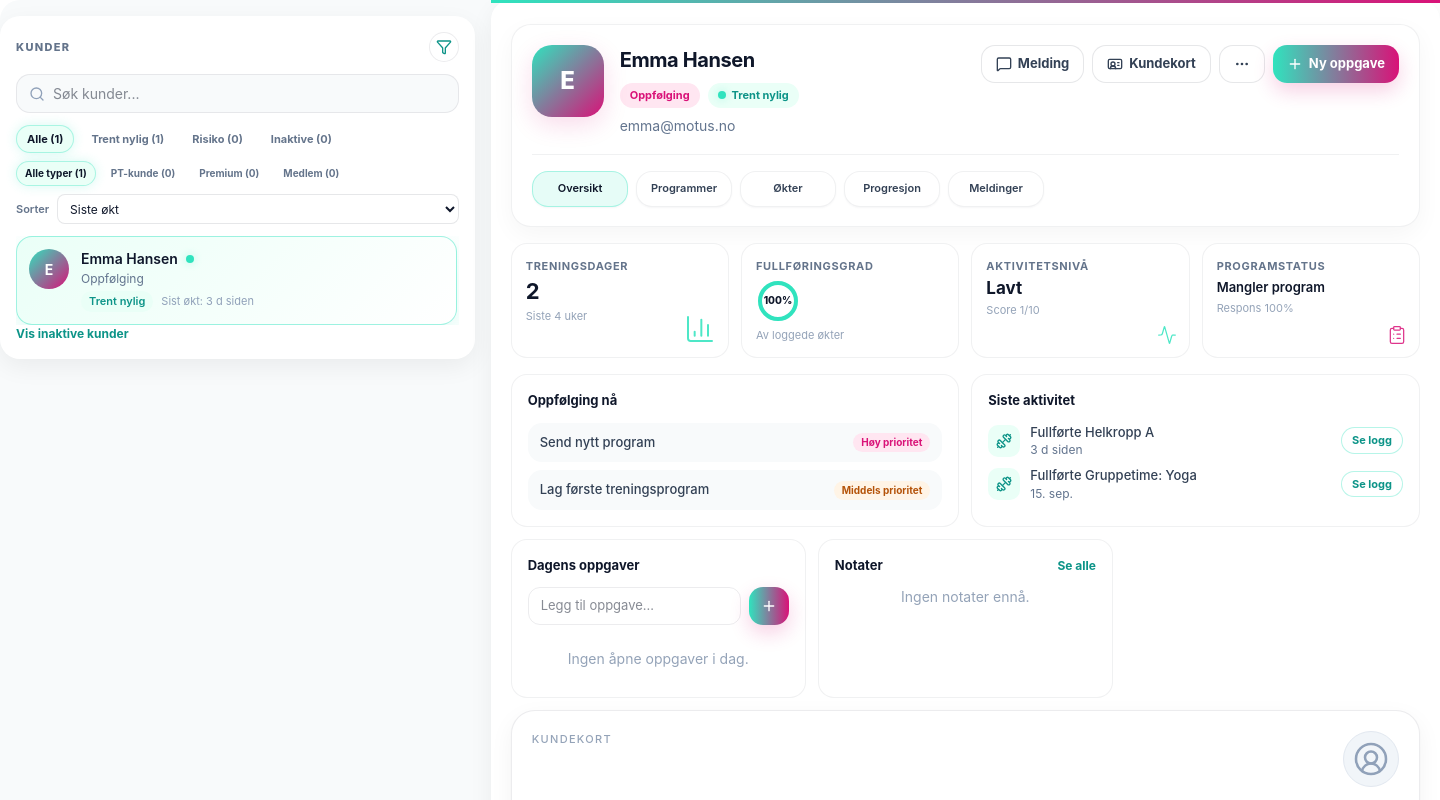
Test: Trainer flows › shows workout insight cards for last 7 and 30 days
Click the button "Økter".
click(788, 188)  # box [740,170,836,206]
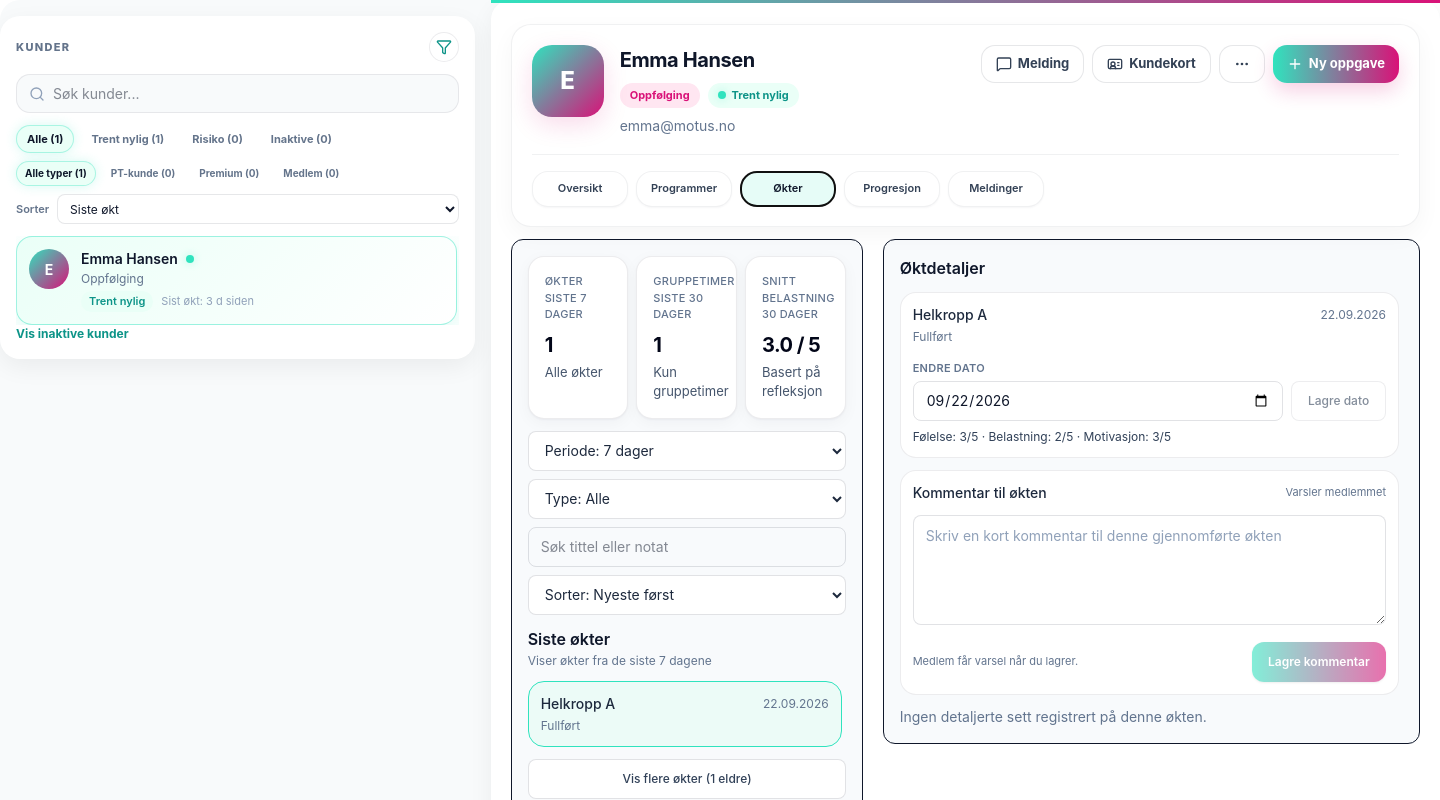
Result: the text "Økter siste 7 dager" is shown at [545,274,587,321]
Result: the text "Gruppetimer siste 30 dager" is shown at [653,273,720,323]
Result: the text "Snitt belastning 30 dager" is shown at [762,273,829,323]
